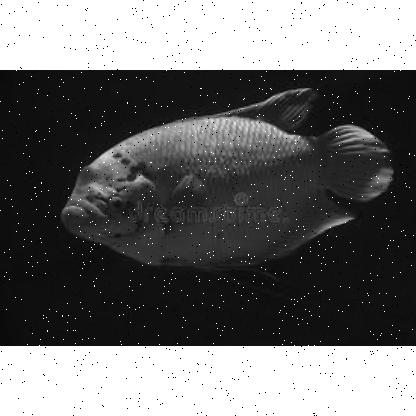gurame: (66, 95, 390, 277)
